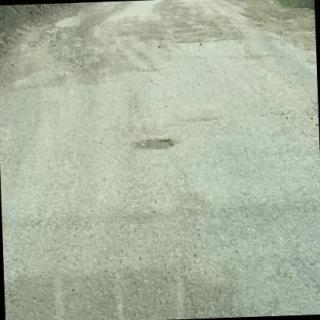pothole: (133, 138, 178, 152)
